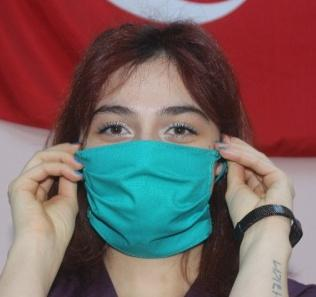OK: (86, 85, 218, 253)
